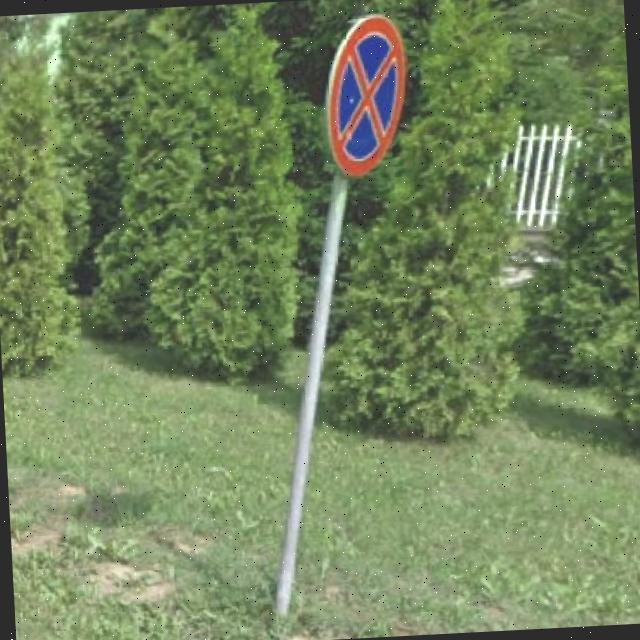Zakaz zatrzymywania sie: (320, 12, 412, 184)
